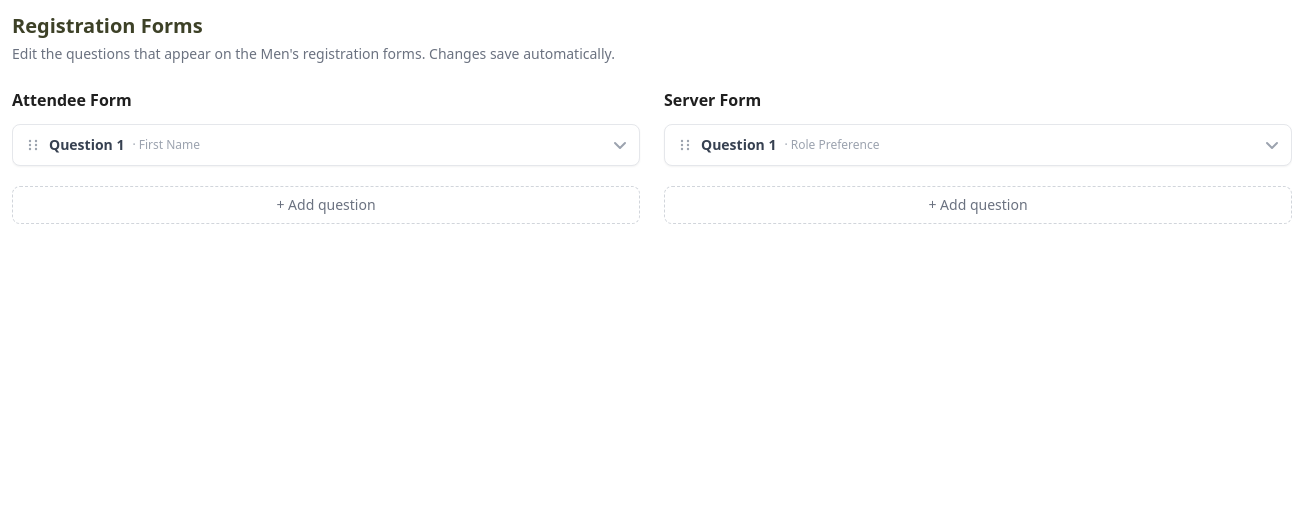
Test case: FormsEditor page › shows option chips for a dropdown field when expanded
This screenshot has width=1304, height=515.
Expected: the text "Question 1" below "Attendee Form" is shown, 49,135 -> 124,154
# Second one is the server column
What coordinates should you click on to do the following:
click the button "Question 1 · Role Preference"
I would click on:
 (739, 144)
Its box is 677,135 -> 1279,154.
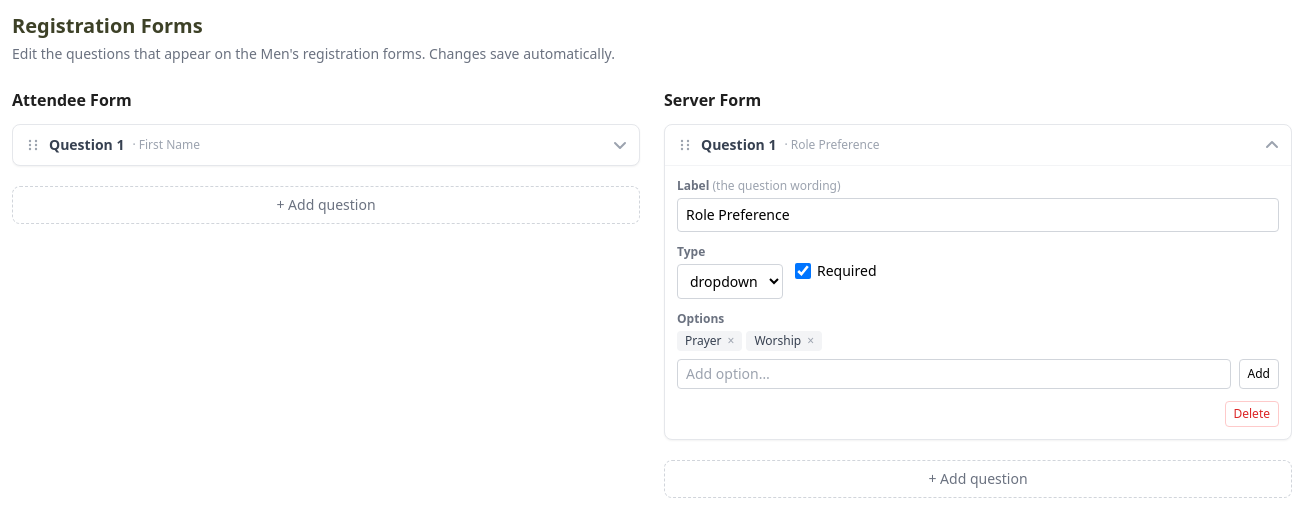
Expected: the text "Prayer" is shown, 685,332 -> 722,349
Expected: the text "Worship" is shown, 754,332 -> 801,349
